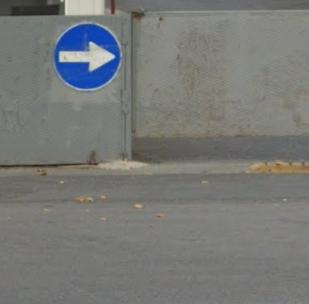turnright: (53, 23, 122, 87)
